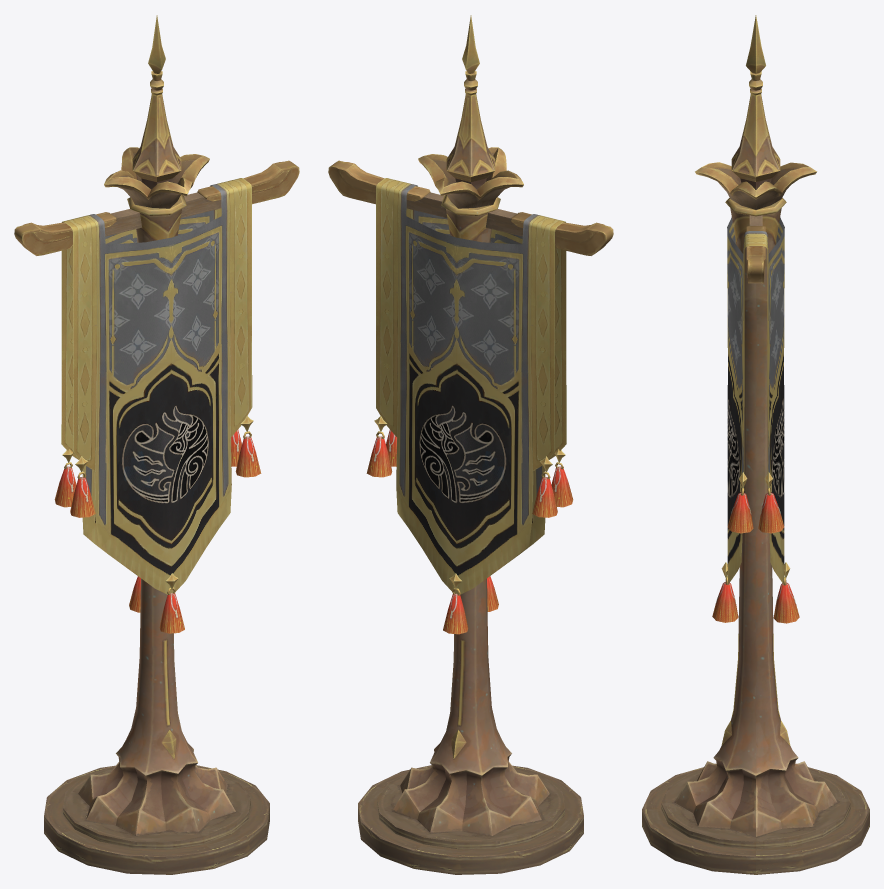
File: Homeworld_Exterior_Xm_Decoration_Ecloth_Xyjqizi_03_Vo.fbx
The picture shows the model from 3 angles, left to right: view 1: azimuth 30°, elevation 25°; view 2: azimuth 150°, elevation 25°; view 3: azimuth 270°, elevation 25°; orthographic projection.
Parts seen in each view (by area): view 1: Area_Xm_Prop_XKC_Qizi_01_04_Vo, Area_Xm_Prop_XKC_Qizi_01_01_Lod0 (1); view 2: Area_Xm_Prop_XKC_Qizi_01_04_Vo, Area_Xm_Prop_XKC_Qizi_01_01_Lod0 (1); view 3: Area_Xm_Prop_XKC_Qizi_01_01_Lod0 (1), Area_Xm_Prop_XKC_Qizi_01_04_Vo.
Boxes of the visible parts, x1,y1,x2,y2 form: Area_Xm_Prop_XKC_Qizi_01_04_Vo: (54, 178, 261, 633); Area_Xm_Prop_XKC_Qizi_01_01_Lod0 (1): (14, 15, 299, 874); Area_Xm_Prop_XKC_Qizi_01_04_Vo: (366, 178, 573, 634); Area_Xm_Prop_XKC_Qizi_01_01_Lod0 (1): (328, 15, 613, 874); Area_Xm_Prop_XKC_Qizi_01_01_Lod0 (1): (642, 15, 869, 874); Area_Xm_Prop_XKC_Qizi_01_04_Vo: (712, 217, 799, 623).
Size of the model in its own units: 1.48 by 4.14 by 1.05.
Materials: 1 (1 with a texture image).
